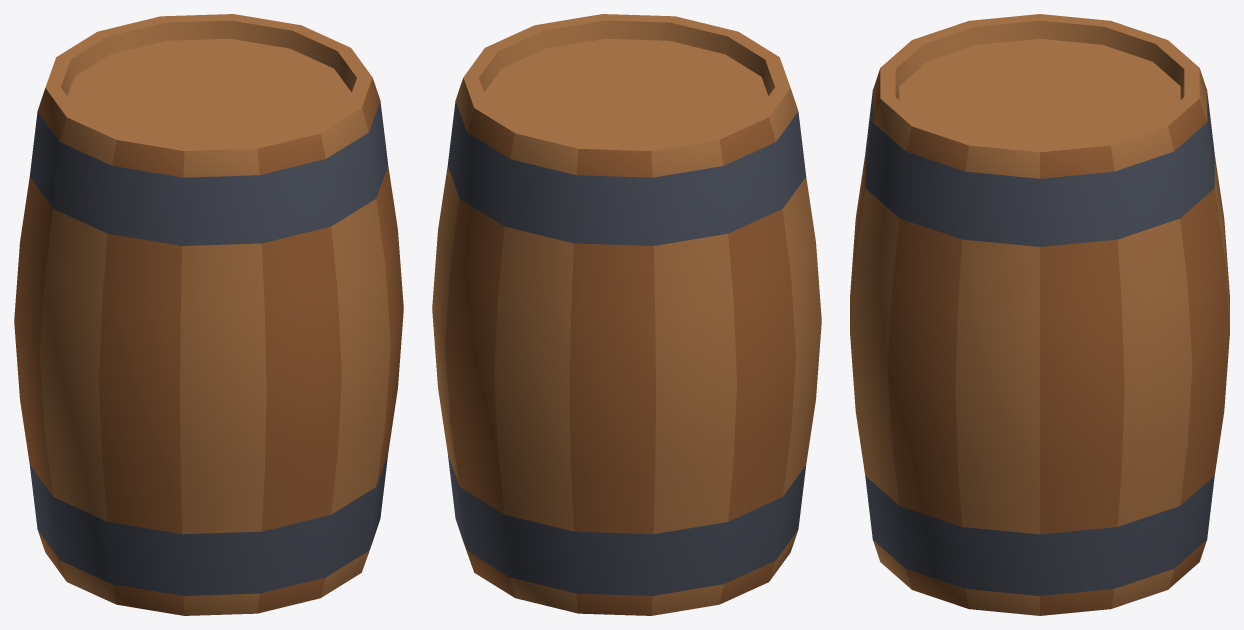
Rendered from mint-prop3.glb.
3 renders of one model, left to right at view 1: azimuth 30°, elevation 25°; view 2: azimuth 150°, elevation 25°; view 3: azimuth 270°, elevation 25°, orthographic.
Visible parts, largest first — view 1: mint-prop3; view 2: mint-prop3; view 3: mint-prop3.
Part boxes in pixels (box(x1,y1,x2,y2)): mint-prop3: box(14, 14, 403, 615); mint-prop3: box(432, 14, 821, 615); mint-prop3: box(850, 14, 1229, 615).
Bounding box in the file's own units: 0.64 × 0.84 × 0.624.
